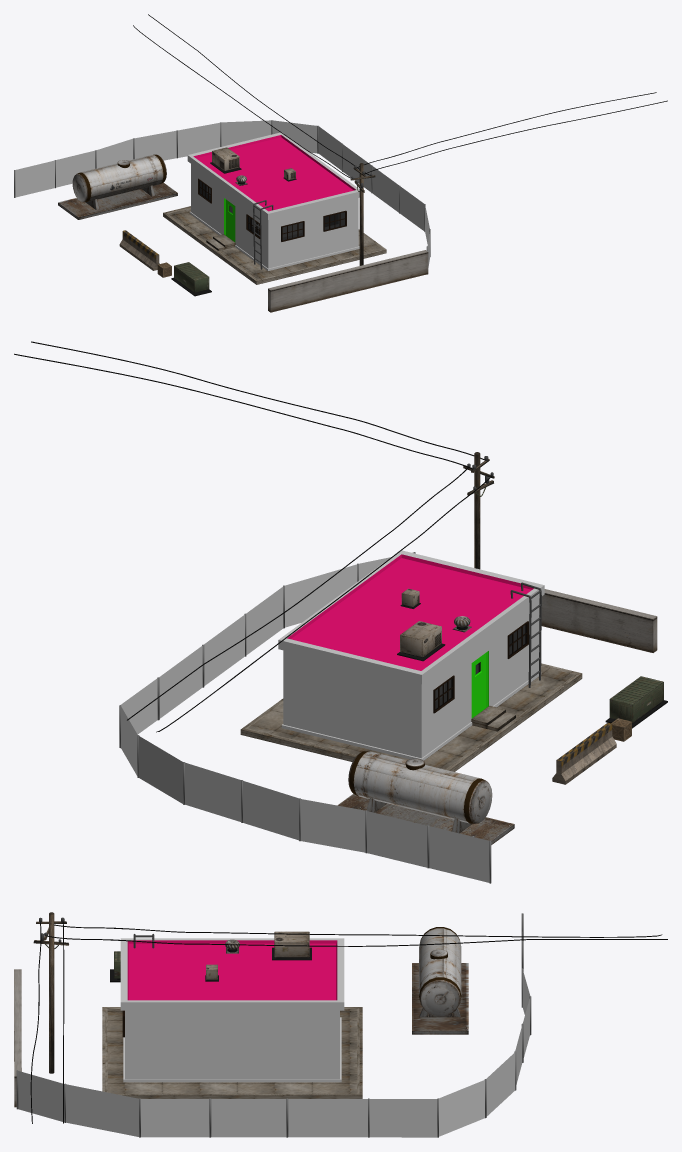
File: Buiding1.fbx
The picture shows the model from 3 angles, top to bottom: view 1: azimuth 30°, elevation 25°; view 2: azimuth 150°, elevation 25°; view 3: azimuth 270°, elevation 25°; orthographic projection. The views are drawn at different scales.
Parts seen in each view (by area): view 1: all_connected_base, all_connected_base.002; view 2: all_connected_base, all_connected_base.002, all_connected_base.001; view 3: all_connected_base, all_connected_base.002.
Part boxes in pixels (<box>): all_connected_base: <box>14,120,430,312</box>; all_connected_base.002: <box>133,14,667,191</box>; all_connected_base: <box>119,452,667,883</box>; all_connected_base.002: <box>14,341,491,732</box>; all_connected_base.001: <box>510,582,541,687</box>; all_connected_base: <box>14,912,531,1137</box>; all_connected_base.002: <box>30,922,667,1123</box>.
Bounding box in the file's own units: 3176 × 730 × 2707.
